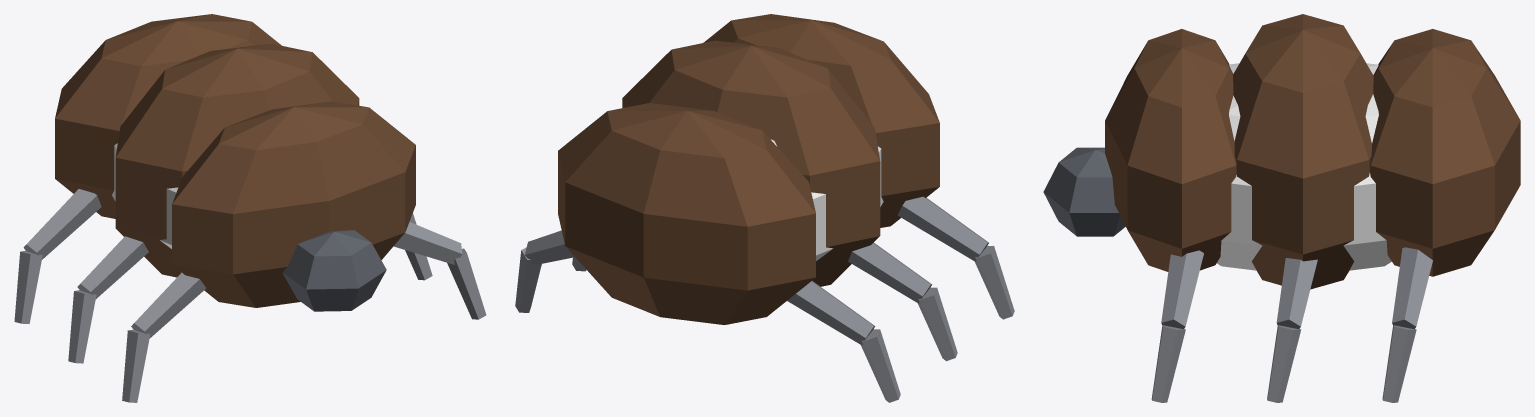
File: crawler.fbx
The picture shows the model from 3 angles, left to right: view 1: azimuth 30°, elevation 25°; view 2: azimuth 150°, elevation 25°; view 3: azimuth 270°, elevation 25°; orthographic projection. The views are drawn at different scales.
Visible parts, largest first — view 1: crawler; view 2: crawler; view 3: crawler.
Part boxes in pixels (bbox=[...]): crawler: bbox=[14, 14, 486, 402]; crawler: bbox=[515, 14, 1014, 402]; crawler: bbox=[1043, 14, 1520, 402].
Size of the model in its own units: 1.56 by 1.08 by 1.65.
2 materials, 1 textured.
